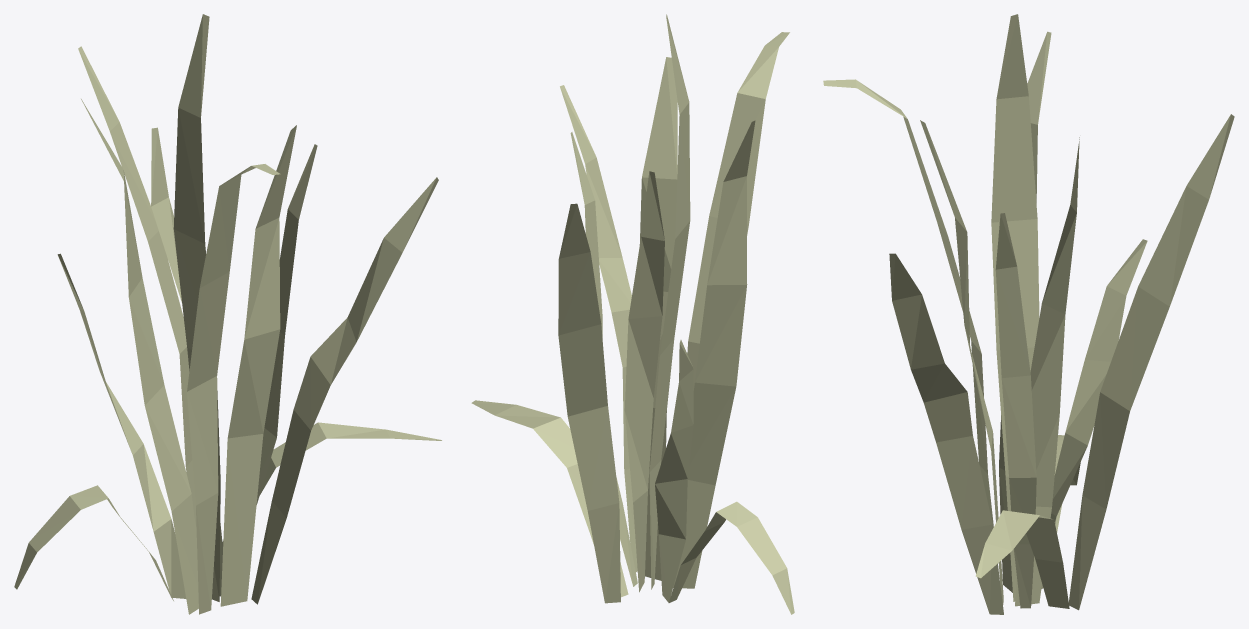
Rendered from SansevieriaTrifasciata.glb.
3 renders of one model, left to right at view 1: azimuth 30°, elevation 25°; view 2: azimuth 150°, elevation 25°; view 3: azimuth 270°, elevation 25°, orthographic. The views are drawn at different scales.
Parts seen in each view (by area): view 1: Crown; view 2: Crown; view 3: Crown.
Part boxes in pixels (box(x1,y1,x2,y2)): Crown: box(14, 14, 441, 614); Crown: box(471, 14, 794, 614); Crown: box(823, 14, 1234, 614).
Bounding box in the file's own units: 0.662 × 0.9848 × 0.6319.
